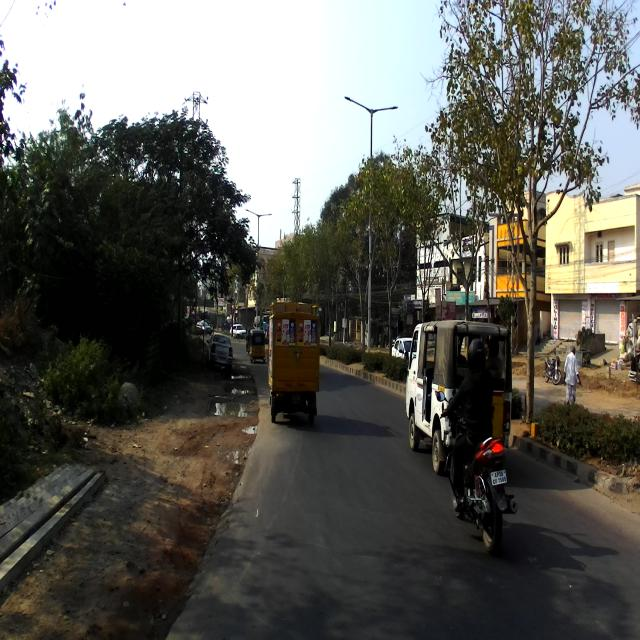car ahead at: (407, 319, 513, 453)
motorcycle ahead at: (448, 443, 526, 548)
truck ahead at: (268, 297, 321, 431)
